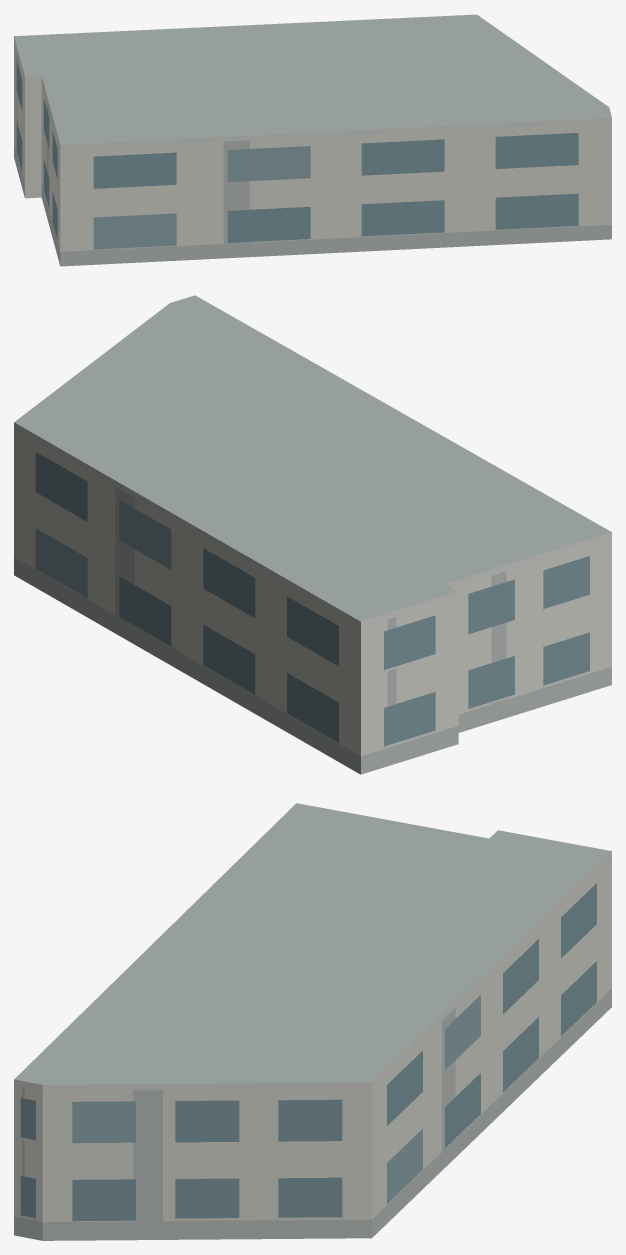
The model's file is survey-upis-32771451.glb.
3 renders of one model, top to bottom at view 1: azimuth 30°, elevation 25°; view 2: azimuth 150°, elevation 25°; view 3: azimuth 270°, elevation 25°, orthographic. The views are drawn at different scales.
Visible parts, largest first — view 1: survey-upis-32771451.tmp; view 2: survey-upis-32771451.tmp; view 3: survey-upis-32771451.tmp.
Part boxes in pixels (x1,y1,x2,y2): survey-upis-32771451.tmp: (14,14,611,266); survey-upis-32771451.tmp: (14,295,611,774); survey-upis-32771451.tmp: (14,803,611,1240).
Size of the model in its own units: 23.64 by 6.1 by 21.2.
